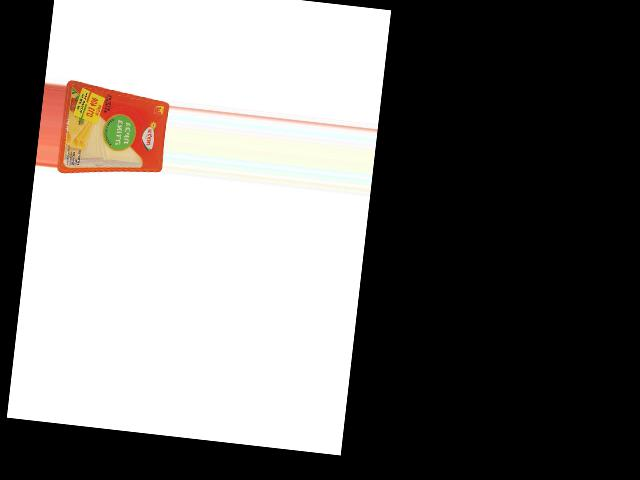cheese: (56, 79, 170, 183)
